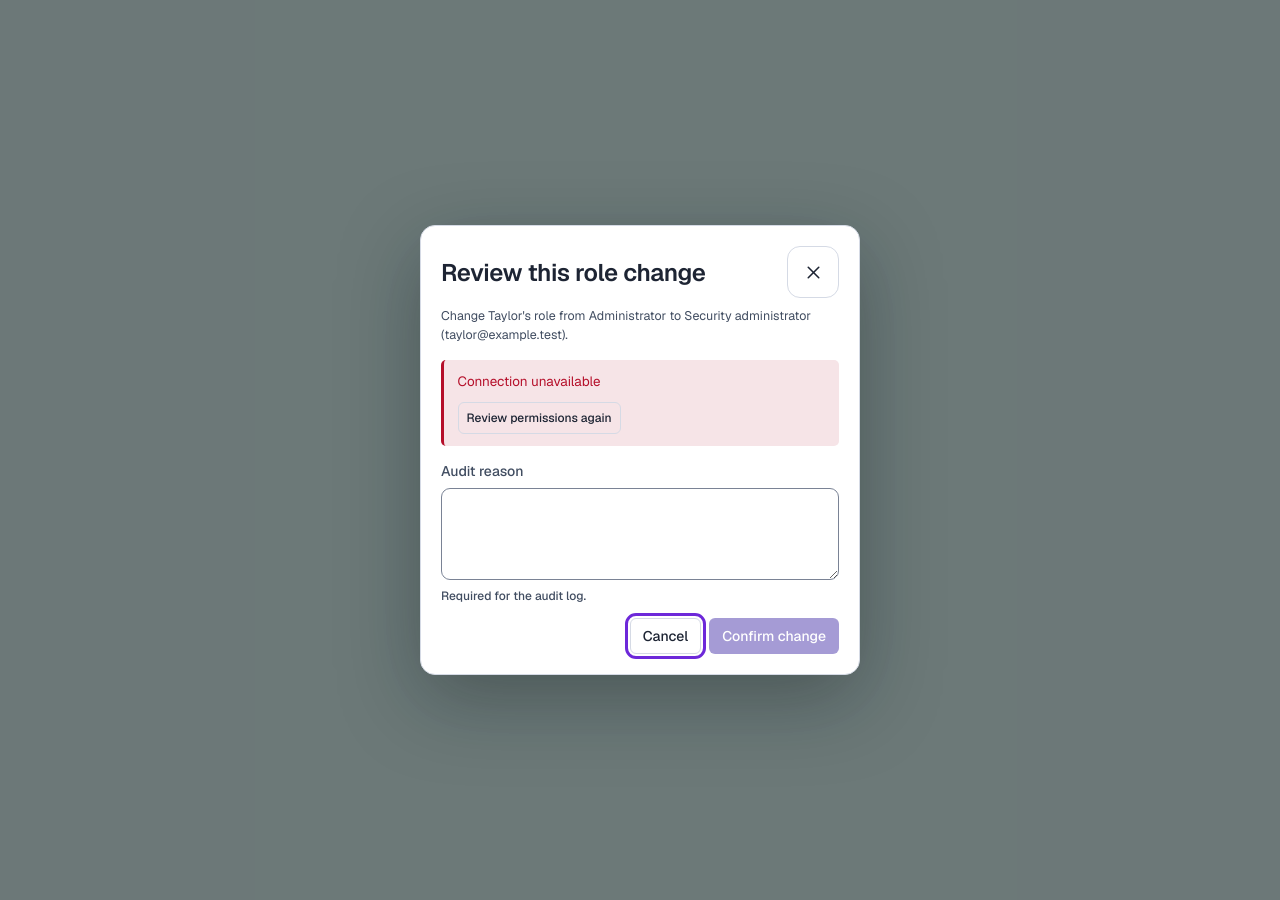
role change review › permits retrying a transient preview failure without applying a role
Expected: the message shows "Connection unavailable", [458,372,601,390]
Expected: the button "Confirm change" is disabled, [709,618,839,654]
Click the button "Review permissions again" at point(539, 418), box [458,402,621,434]
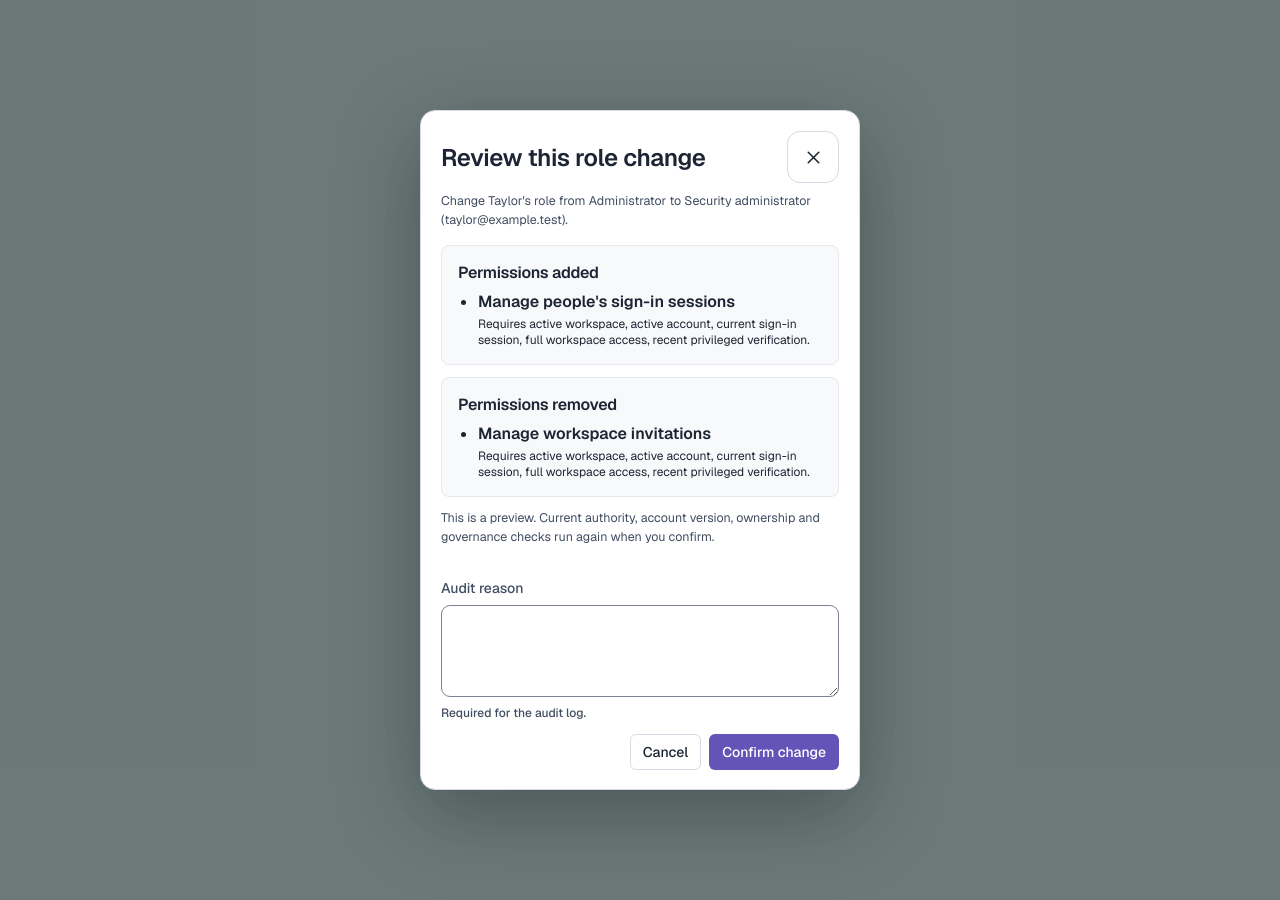
Result: the text "Manage people's sign-in sessions" is shown at [478,291,735,312]
Result: the button "Confirm change" is enabled at [709,734,839,770]
